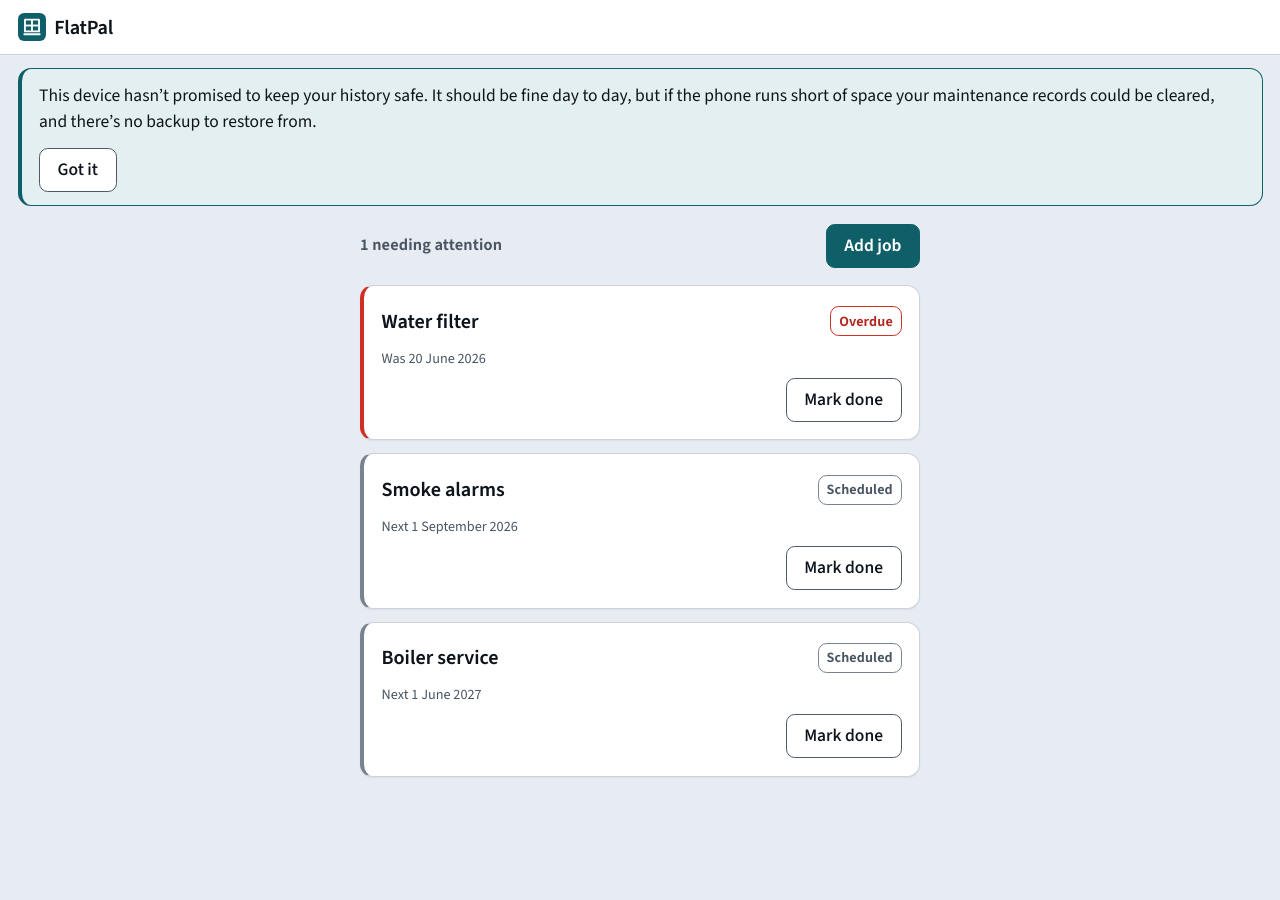
Test case: removing one completion from a job’s history › removes it from the job that was opened, and leaves every other job alone
This screenshot has width=1280, height=900.
Click the button "Smoke alarms".
click(443, 490)  # box x1=382 y1=468 x2=505 y2=512
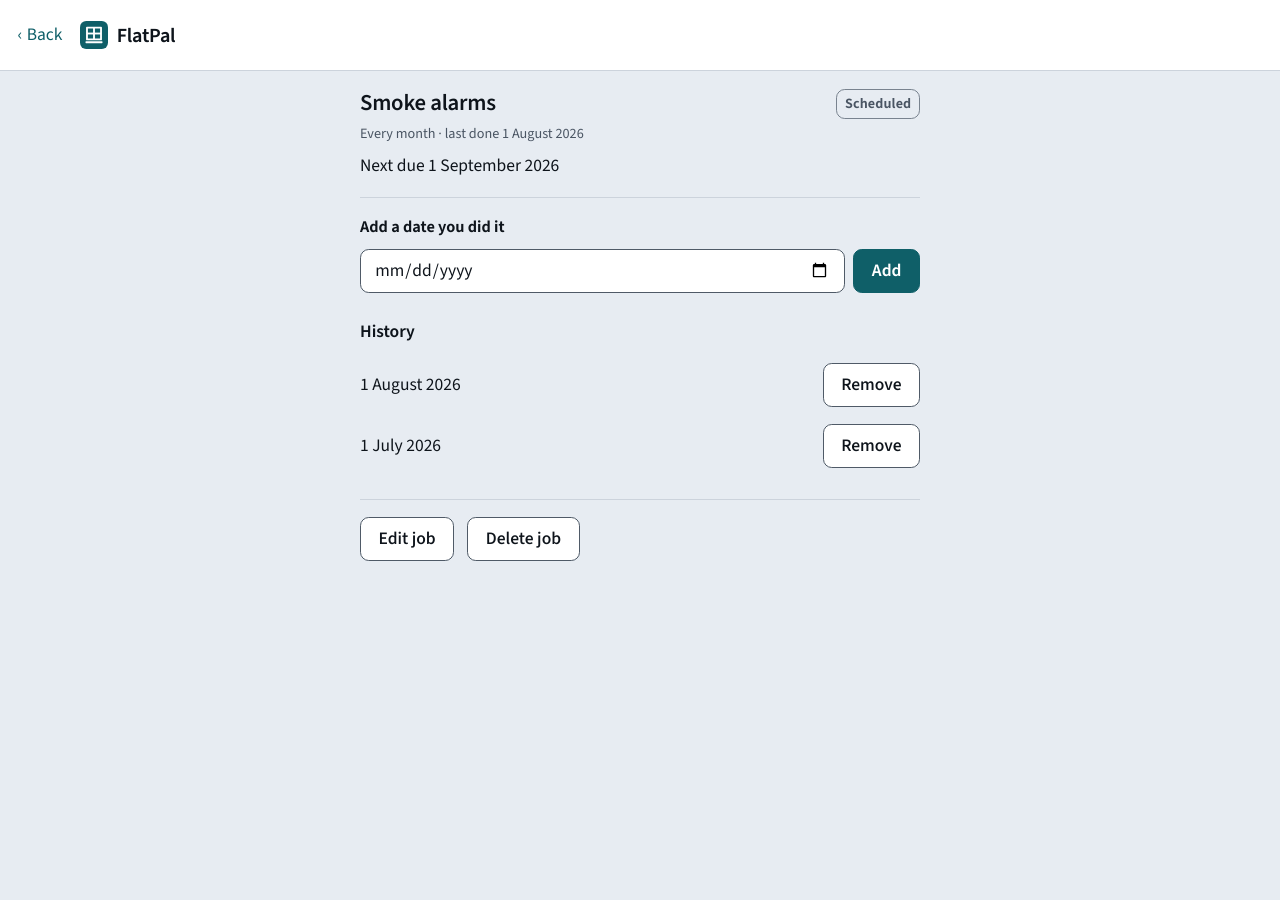
Click the button named "Remove the completion on 1 July 2026".
click(871, 446)  # box x1=823 y1=424 x2=920 y2=468
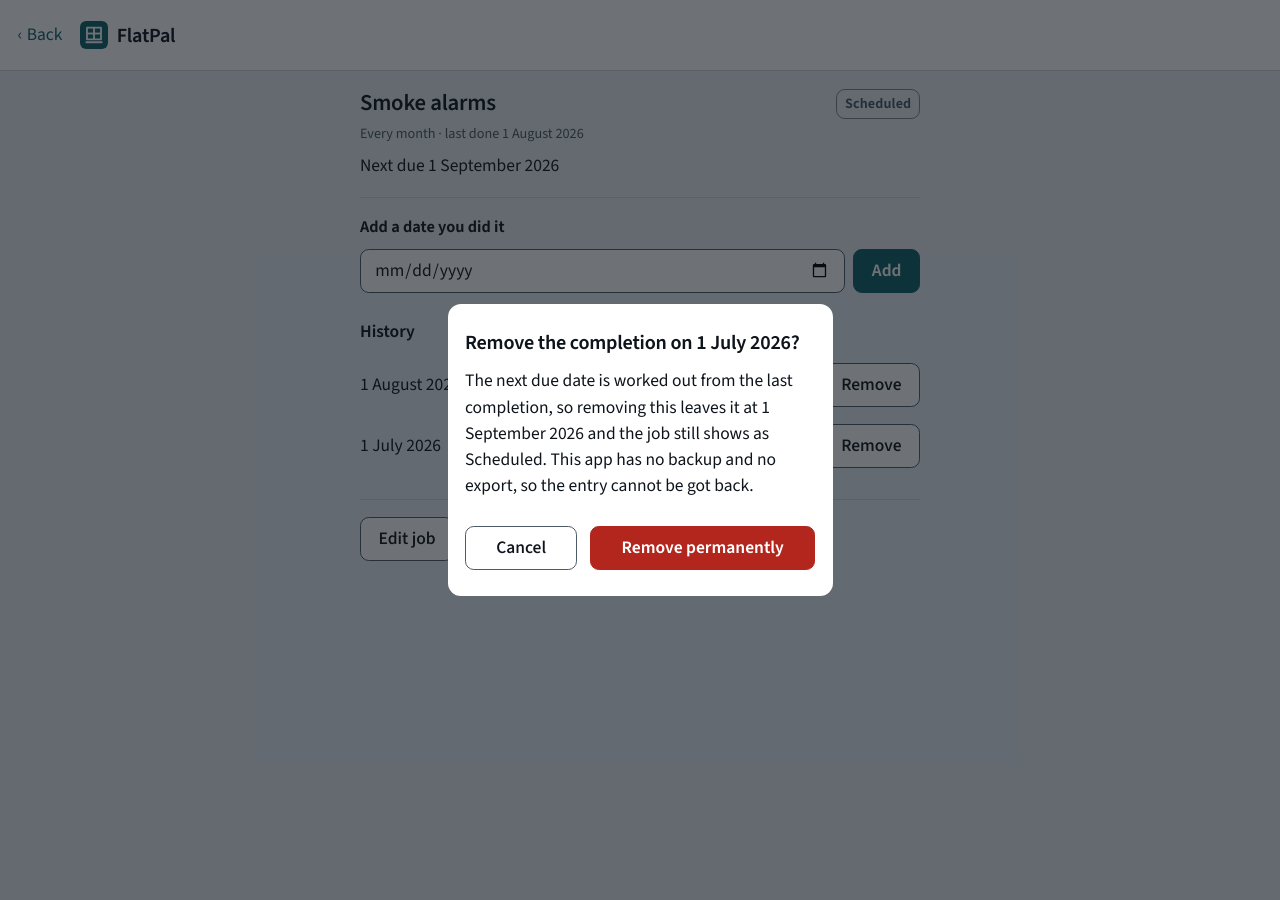
Click the button "Remove permanently".
click(703, 548)  # box x1=590 y1=526 x2=815 y2=570
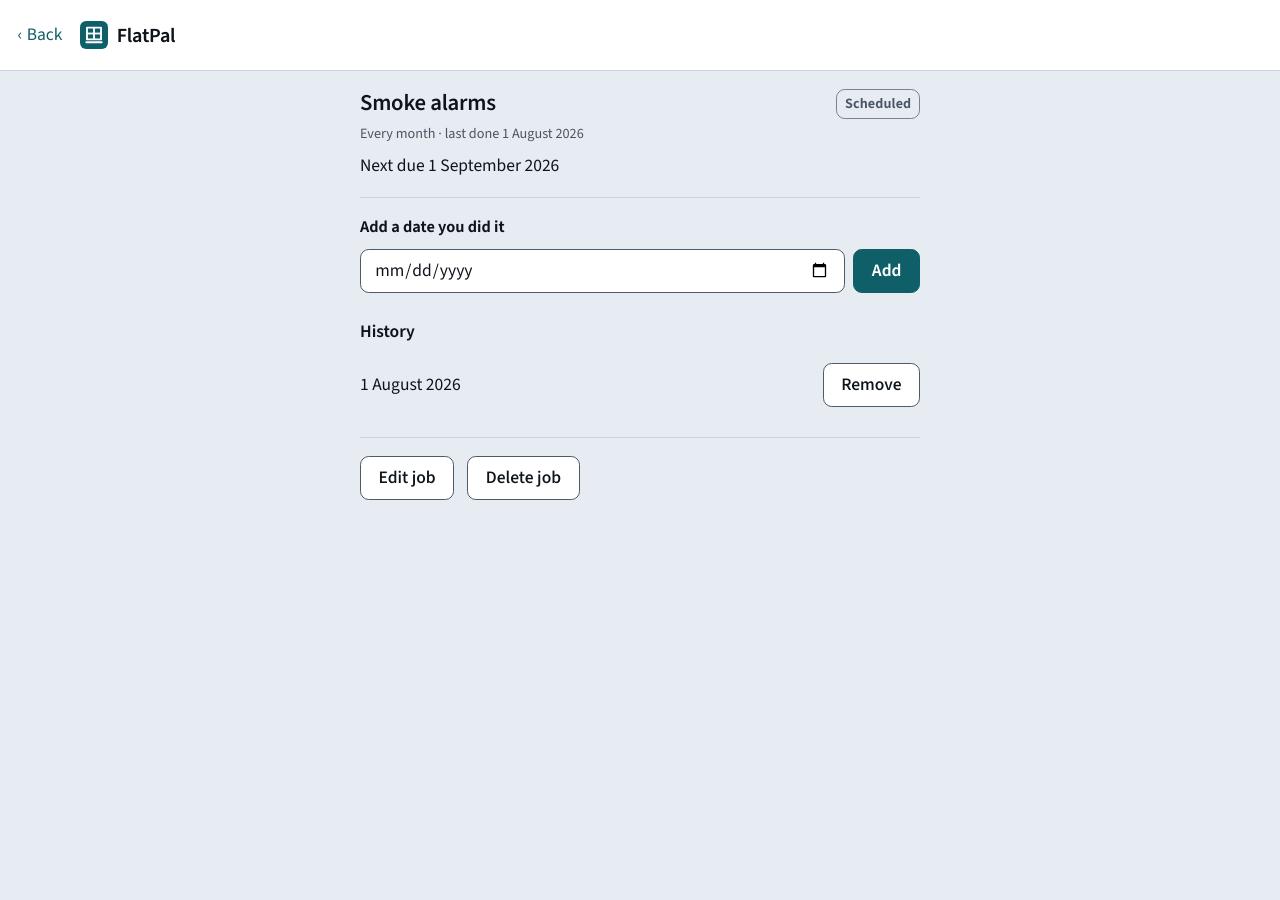
Now the number of buttons named "Remove the completion on" is 1, box x1=823 y1=363 x2=920 y2=407
